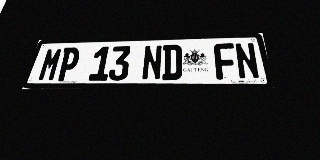1: (88, 46, 113, 81)
3: (108, 46, 131, 81)
D: (162, 44, 182, 80)
F: (213, 43, 238, 80)
M: (37, 48, 64, 81)
N: (234, 42, 261, 79), (141, 45, 162, 80)
P: (55, 47, 81, 81)
